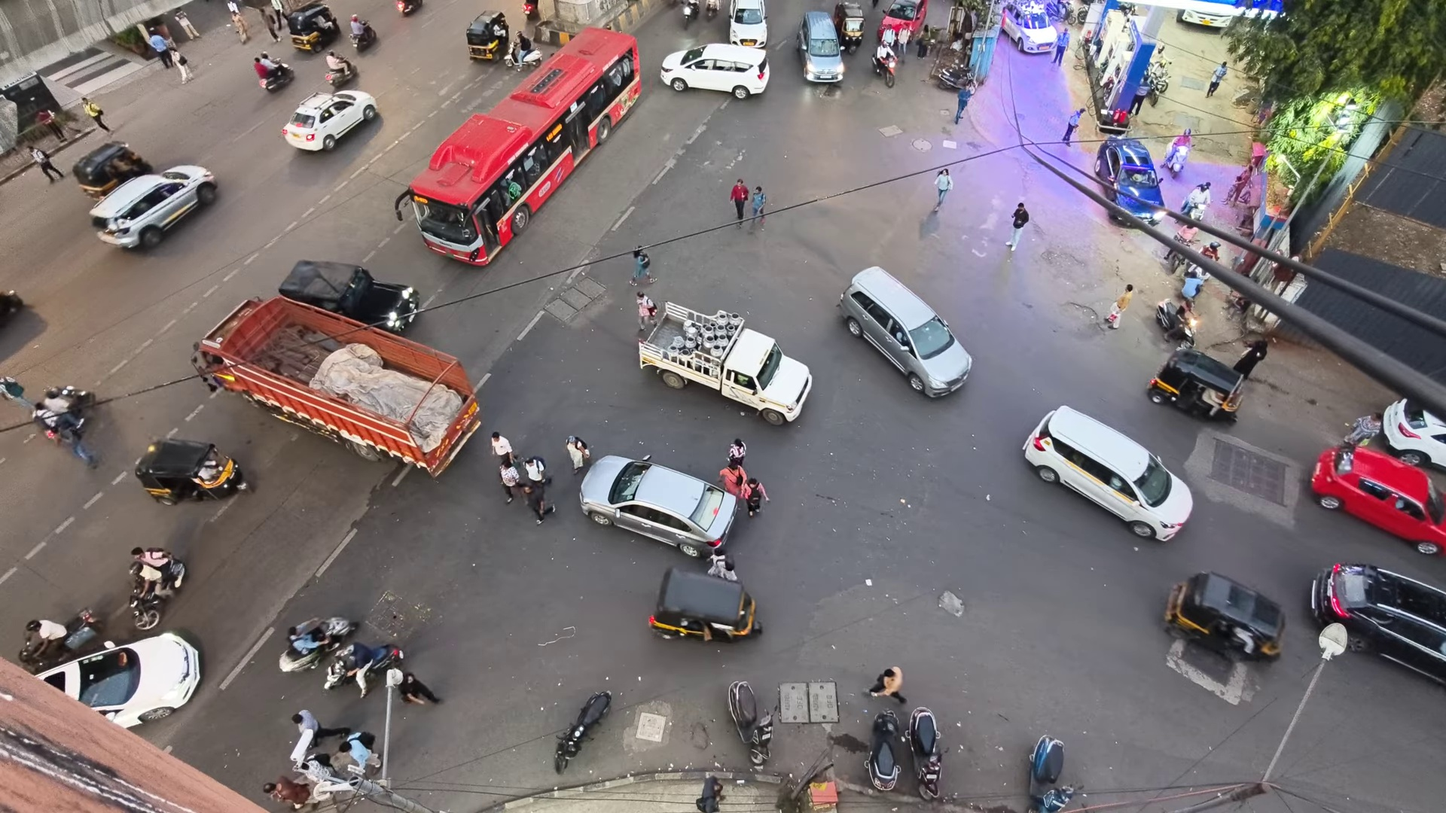driving: (395, 28, 640, 265), (193, 296, 480, 476), (1023, 406, 1192, 540), (639, 302, 812, 425), (838, 266, 972, 397), (1310, 563, 1445, 684), (579, 455, 737, 557), (38, 632, 198, 726), (1310, 446, 1445, 554), (89, 165, 216, 248), (1164, 572, 1284, 659), (278, 260, 419, 333), (648, 568, 761, 641), (134, 437, 249, 504), (1149, 348, 1246, 420), (1094, 136, 1165, 224), (660, 44, 769, 99), (282, 91, 376, 151), (17, 608, 100, 673), (554, 691, 611, 773), (72, 142, 152, 197), (279, 617, 358, 671), (1382, 400, 1445, 467), (323, 644, 403, 696), (728, 681, 773, 766), (1027, 735, 1075, 812), (905, 707, 943, 799), (1001, 0, 1057, 52), (285, 2, 340, 53), (865, 711, 900, 791), (465, 11, 509, 61), (877, 0, 928, 39), (832, 0, 865, 53), (730, 0, 767, 47), (1176, 4, 1241, 29), (258, 62, 294, 92), (350, 16, 377, 52), (325, 62, 358, 87), (504, 48, 541, 70), (871, 55, 896, 87), (0, 291, 24, 324), (396, 0, 423, 16), (522, 0, 538, 18), (705, 0, 719, 20)
walking: (291, 709, 351, 744), (336, 731, 379, 770), (262, 775, 310, 808), (1343, 413, 1383, 447), (398, 672, 441, 703), (1233, 339, 1268, 377), (523, 483, 554, 525), (869, 667, 905, 703), (1180, 181, 1211, 220), (1106, 284, 1133, 328), (1006, 202, 1029, 251), (31, 147, 63, 182), (499, 453, 520, 503), (81, 96, 110, 132), (718, 462, 747, 498), (695, 775, 723, 812), (743, 478, 770, 516), (36, 109, 66, 142), (630, 246, 654, 285), (565, 436, 590, 473), (148, 29, 172, 67), (731, 178, 749, 228), (1128, 79, 1151, 117), (523, 455, 551, 485), (707, 553, 737, 580), (637, 291, 657, 331), (934, 168, 953, 210), (1062, 108, 1084, 144), (1182, 266, 1204, 301), (174, 10, 200, 38), (954, 84, 972, 124), (1207, 61, 1226, 97), (173, 52, 193, 83), (1053, 27, 1069, 65), (752, 185, 766, 227), (491, 431, 512, 457), (231, 11, 248, 42), (261, 14, 280, 41), (896, 26, 910, 62), (728, 438, 746, 465), (270, 0, 285, 26), (881, 27, 896, 50)
